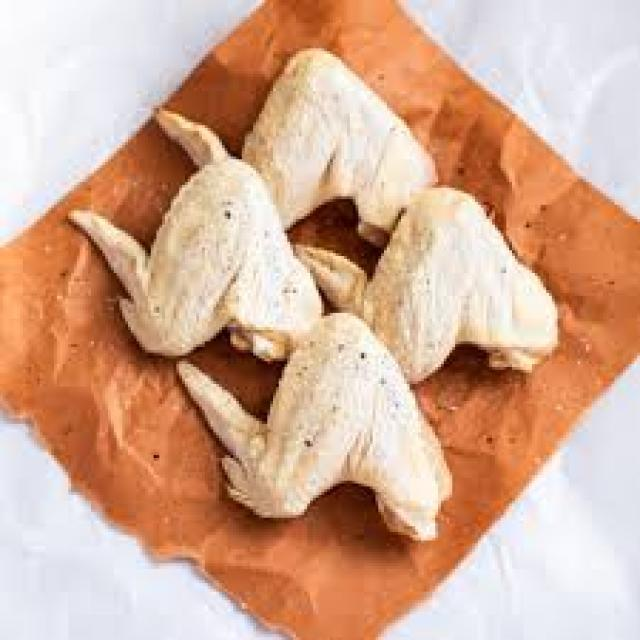wing: (182, 314, 450, 540), (162, 51, 438, 230), (84, 160, 320, 366), (303, 199, 556, 391)
